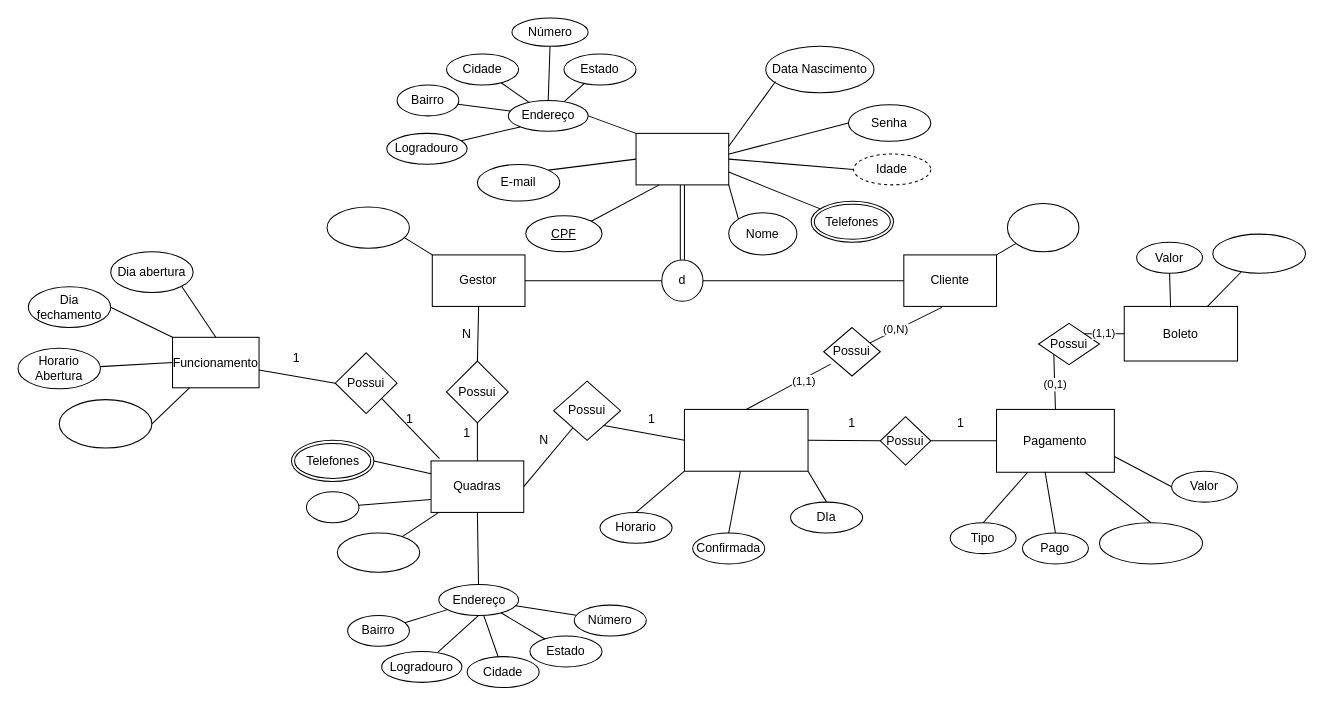
This 1324x706 diagram has some shape labels left out. Each missing label, with the centre of its shape:
"CNPJ" belongs at pixel 332 507.
"Data Pagamento" belongs at pixel 1150 543.
"Data Vencimento" belongs at pixel 1259 253.
"Horario Fechamento" belongs at pixel 105 423.
"id_cliente" belongs at pixel 1042 227.
"id_gestor" belongs at pixel 367 227.
"Razão Social" belongs at pixel 378 552.
"Reserva" belongs at pixel 745 439.
"Usuário" belongs at pixel 682 158.
